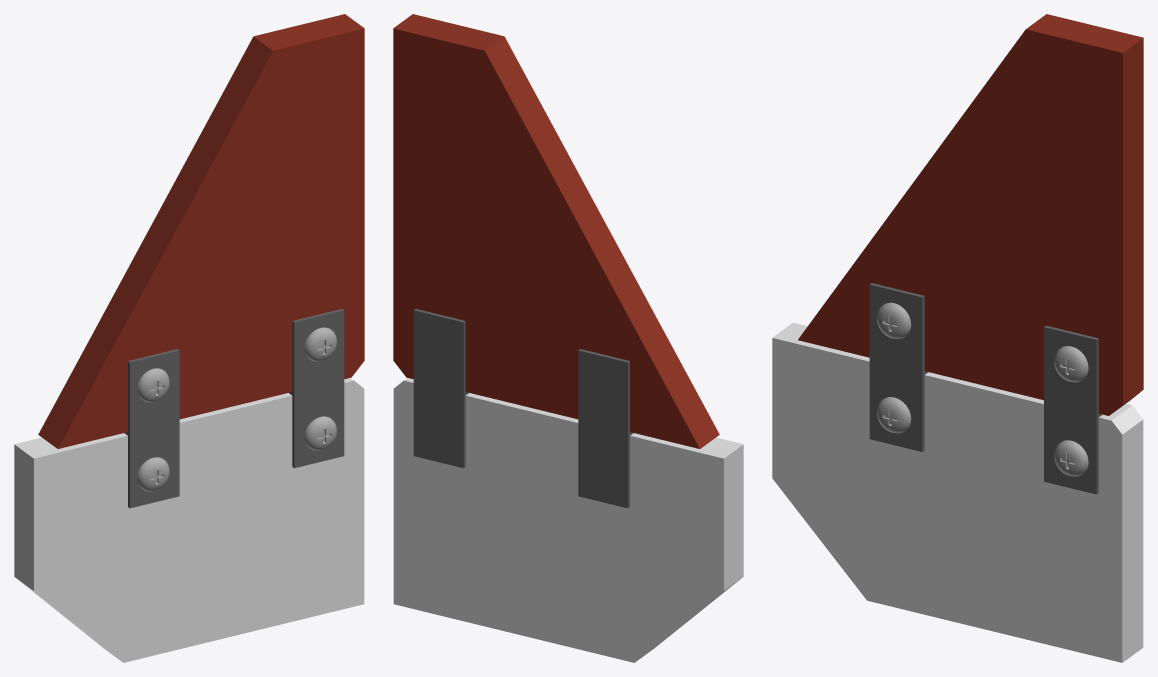
File: rocketFin.fbx
3 renders of one model, left to right at view 1: azimuth 30°, elevation 25°; view 2: azimuth 150°, elevation 25°; view 3: azimuth 330°, elevation 25°, orthographic. The views are drawn at different scales.
Parts seen in each view (by area): view 1: Rocket Fin; view 2: Rocket Fin; view 3: Rocket Fin.
Boxes of the visible parts, <box> form: Rocket Fin: <box>14,14,364,662</box>; Rocket Fin: <box>393,14,743,662</box>; Rocket Fin: <box>772,14,1143,662</box>.
Size of the model in its own units: 295 by 490 by 42.99.
